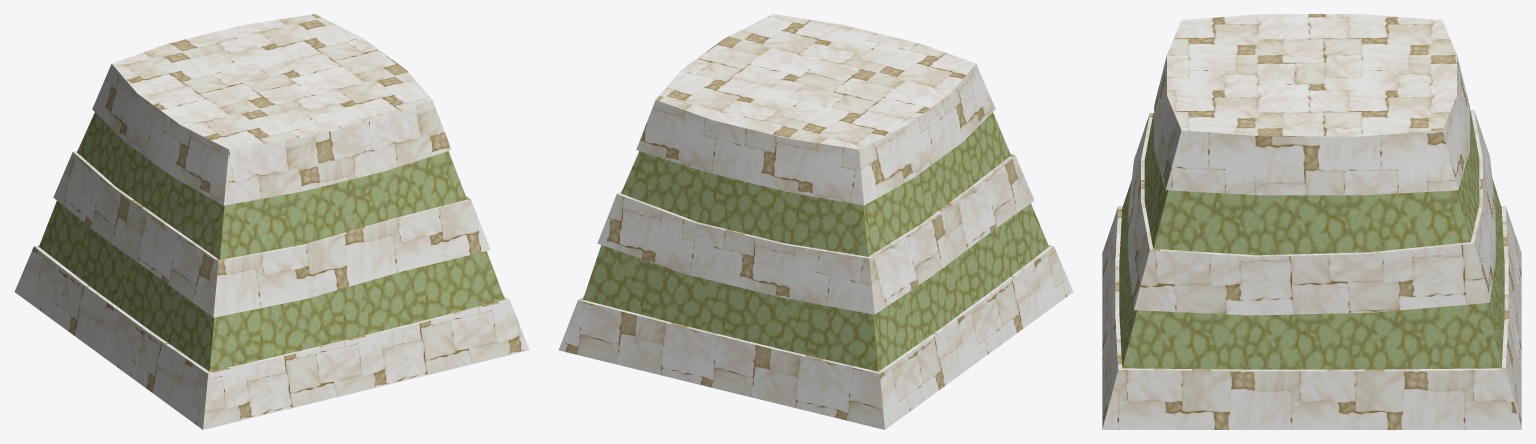
File: CastleBase.fbx
3 views of the same model, side by side, from view 1: azimuth 30°, elevation 25°; view 2: azimuth 150°, elevation 25°; view 3: azimuth 270°, elevation 25° (orthographic). The views are drawn at different scales.
Parts seen in each view (by area): view 1: CastleBase; view 2: CastleBase; view 3: CastleBase.
Boxes of the visible parts, x1,y1,x2,y2 form: CastleBase: [14, 14, 529, 429]; CastleBase: [558, 14, 1073, 429]; CastleBase: [1102, 14, 1521, 429].
Bounding box in the file's own units: 12.85 × 9 × 12.85.
